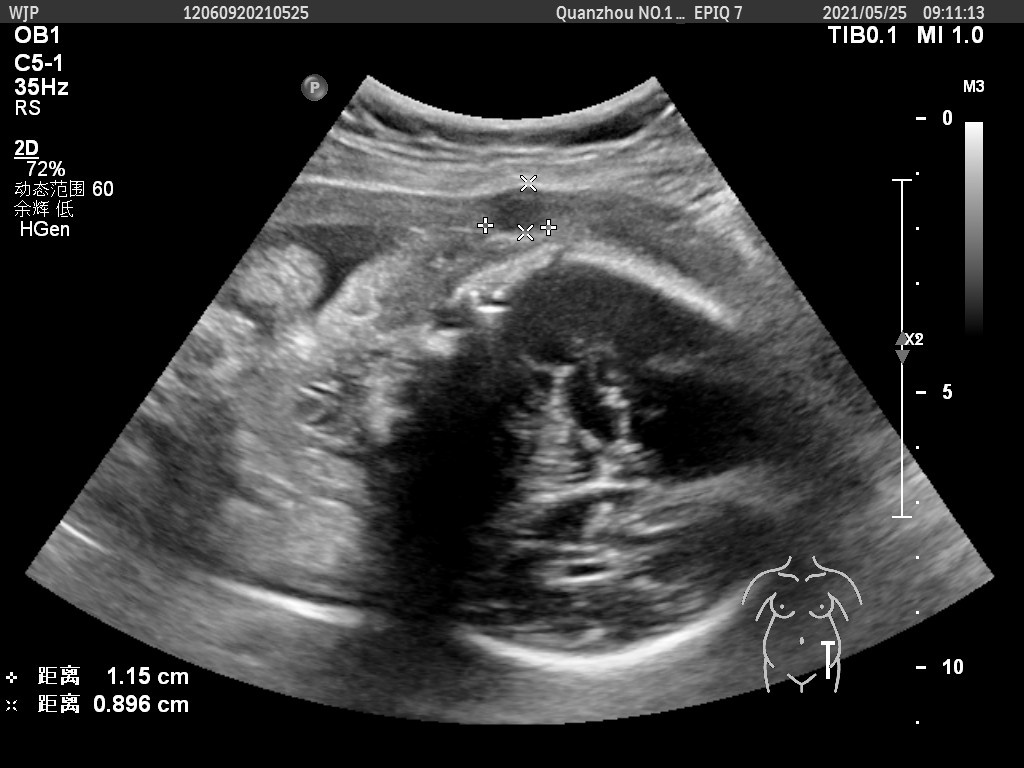肌瘤: (484, 178, 554, 233)
